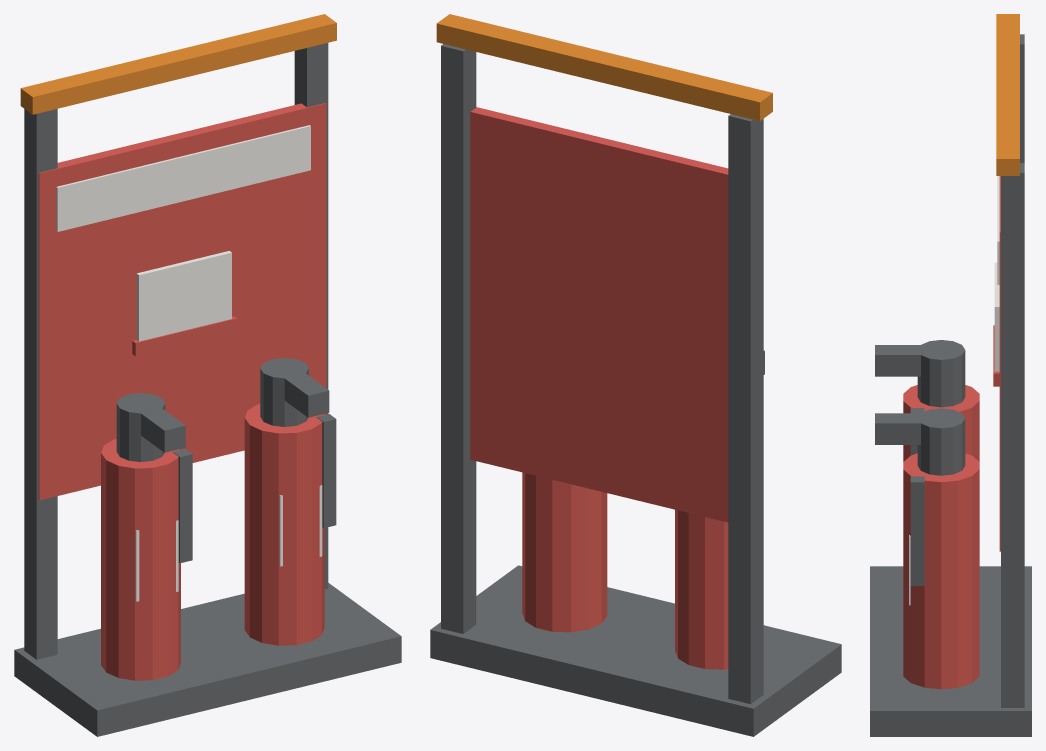
Rendered from self-storage-facility-and-loading-bay-self-storage-fac-fd1beba1__34728.glb.
The picture shows the model from 3 angles, left to right: view 1: azimuth 30°, elevation 25°; view 2: azimuth 150°, elevation 25°; view 3: azimuth 270°, elevation 25°; orthographic projection. The views are drawn at different scales.
Visible parts, largest first — view 1: self-storage-facility-and-loading-bay-fire-extinguisher-poin (×4); view 2: self-storage-facility-and-loading-bay-fire-extinguisher-poin (×3); view 3: self-storage-facility-and-loading-bay-fire-extinguisher-poin (×4).
Boxes of the visible parts, bbox=[...] form: self-storage-facility-and-loading-bay-fire-extinguisher-poin (×4): bbox=[14, 14, 401, 736]; self-storage-facility-and-loading-bay-fire-extinguisher-poin (×3): bbox=[430, 14, 841, 736]; self-storage-facility-and-loading-bay-fire-extinguisher-poin (×4): bbox=[870, 14, 1031, 736].
Bounding box in the file's own units: 0.7201 × 1.34 × 0.34.
